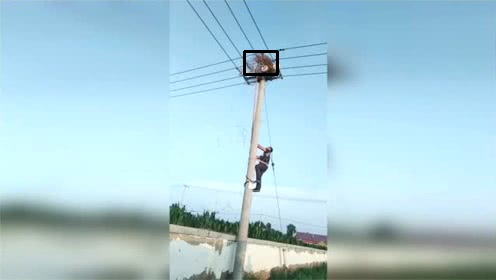bird-nest: (255, 52, 274, 76)
